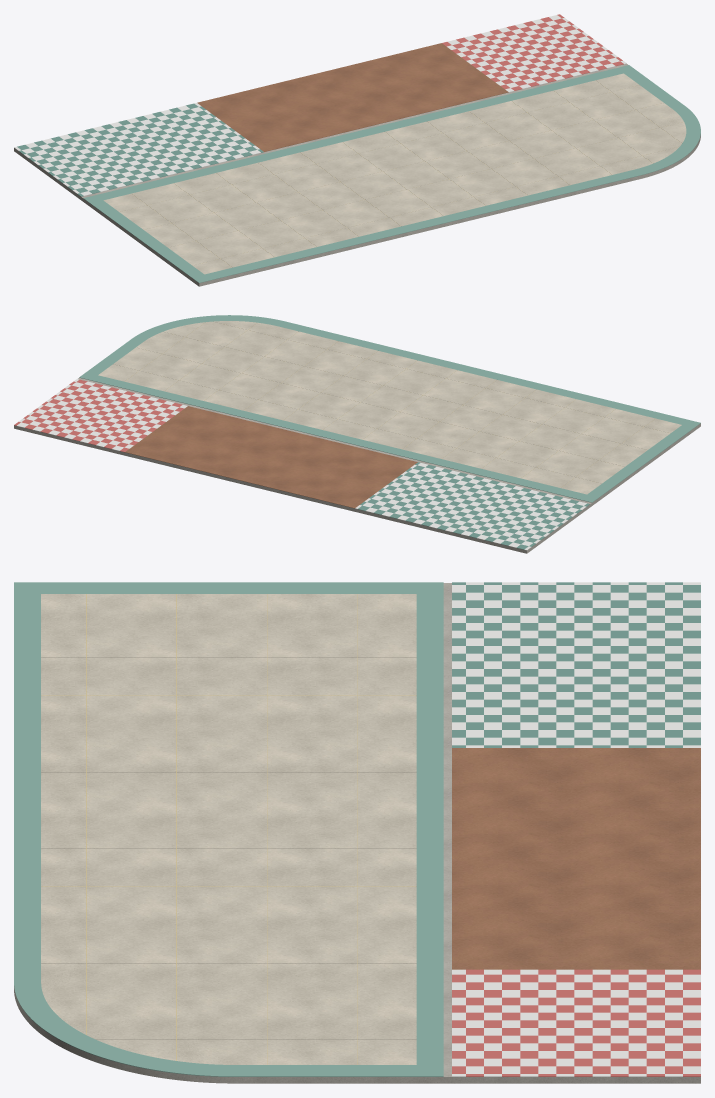
Rendered from floor.glb.
The picture shows the model from 3 angles, top to bottom: view 1: azimuth 30°, elevation 25°; view 2: azimuth 150°, elevation 25°; view 3: azimuth 270°, elevation 25°; orthographic projection. The views are drawn at different scales.
Parts seen in each view (by area): view 1: floor_terrazzo, floor_lino, floor_tile, floor_terrazzo_g, floor_tile_k, floor_vinyl_r, floor_concrete; view 2: floor_terrazzo, floor_lino, floor_tile, floor_terrazzo_g, floor_tile_k, floor_vinyl_r, floor_concrete; view 3: floor_terrazzo, floor_lino, floor_tile, floor_terrazzo_g, floor_tile_k, floor_vinyl_r, floor_concrete, floor_brass.
Boxes of the visible parts, left/top/right/bottom form: floor_terrazzo: left=103, top=73, right=686, bottom=274; floor_lino: left=197, top=43, right=508, bottom=151; floor_tile: left=14, top=15, right=626, bottom=195; floor_terrazzo_g: left=83, top=65, right=700, bottom=283; floor_tile_k: left=17, top=103, right=263, bottom=196; floor_vinyl_r: left=442, top=14, right=623, bottom=90; floor_concrete: left=14, top=63, right=700, bottom=286; floor_terrazzo: left=98, top=321, right=681, bottom=494; floor_lino: left=125, top=406, right=417, bottom=508; floor_tile: left=17, top=379, right=586, bottom=550; floor_terrazzo_g: left=79, top=315, right=700, bottom=502; floor_tile_k: left=358, top=462, right=589, bottom=549; floor_vinyl_r: left=14, top=379, right=184, bottom=452; floor_concrete: left=14, top=377, right=700, bottom=553; floor_terrazzo: left=41, top=594, right=416, bottom=1064; floor_lino: left=452, top=748, right=700, bottom=969; floor_tile: left=452, top=582, right=700, bottom=1076; floor_terrazzo_g: left=14, top=582, right=443, bottom=1076; floor_tile_k: left=452, top=582, right=700, bottom=747; floor_vinyl_r: left=452, top=969, right=700, bottom=1076; floor_concrete: left=14, top=583, right=700, bottom=1083; floor_brass: left=41, top=594, right=415, bottom=1064.
Size of the model in its own units: 19.4 by 0.13 by 11.4.
Materials: 8 (3 with a texture image).
